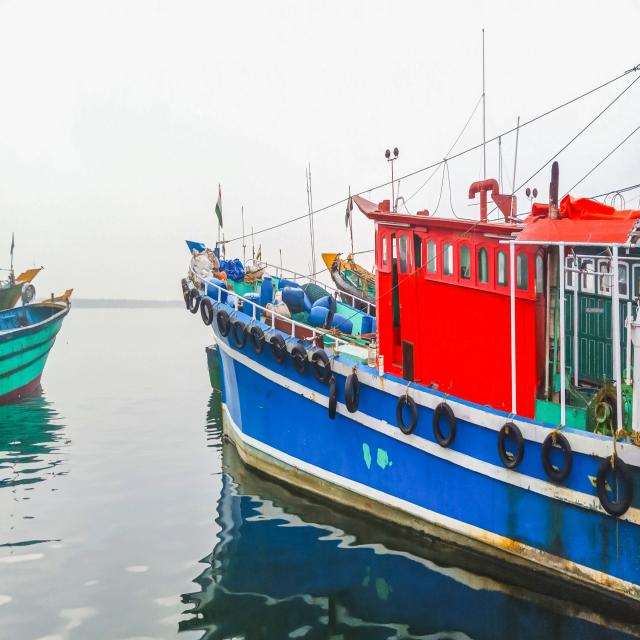Fishing Boat: (170, 69, 626, 622), (0, 201, 119, 502)
